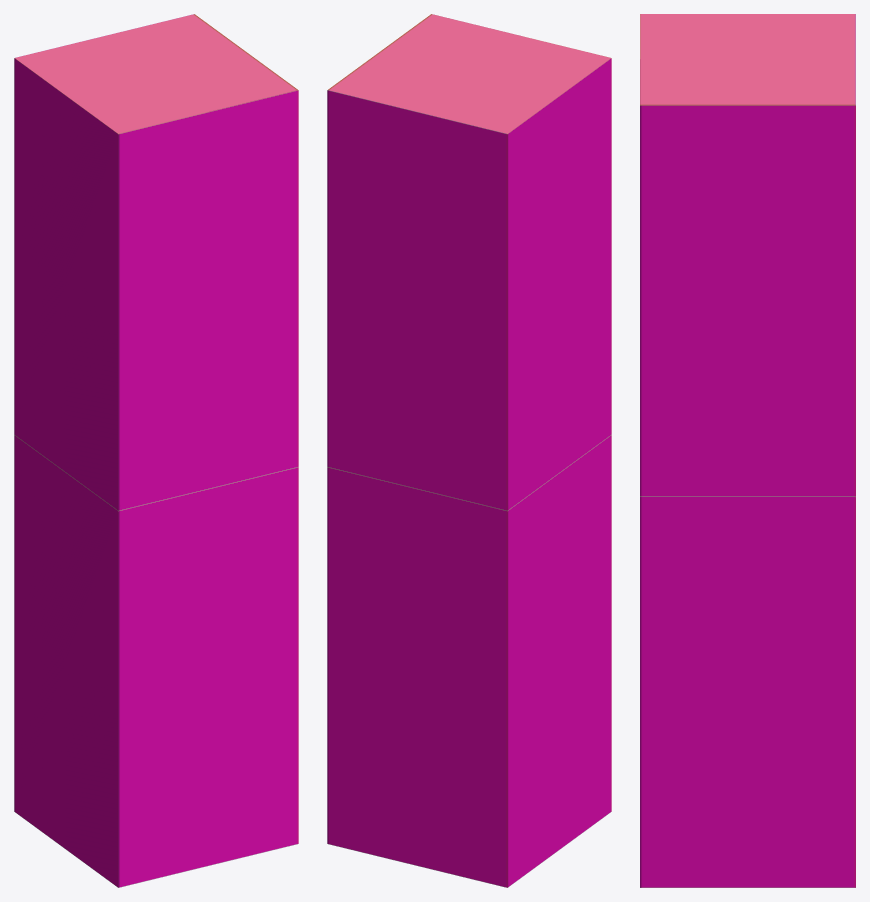
Rendered from MK_Pillar_A_Double.fbx.
3 renders of one model, left to right at view 1: azimuth 30°, elevation 25°; view 2: azimuth 150°, elevation 25°; view 3: azimuth 270°, elevation 25°, orthographic. The views are drawn at different scales.
Visible parts, largest first — view 1: Pillar_A_Double; view 2: Pillar_A_Double; view 3: Pillar_A_Double.
Part boxes in pixels (x1,y1,x2,y2): Pillar_A_Double: (14, 14, 298, 887); Pillar_A_Double: (327, 14, 611, 887); Pillar_A_Double: (640, 14, 855, 887).
Bounding box in the file's own units: 90 × 360 × 90.
Materials: 1 (1 with a texture image).
